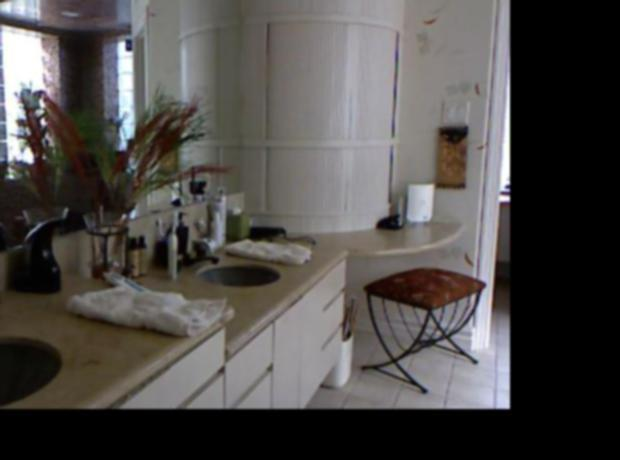Lavamanos: (0, 303, 70, 406), (173, 241, 286, 299)
